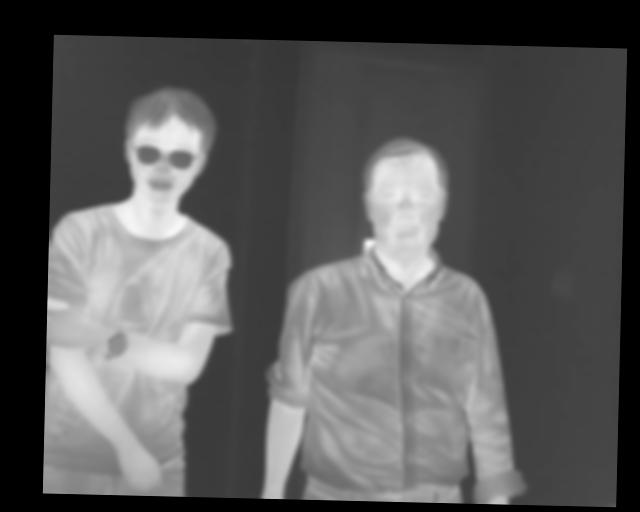face: (360, 134, 449, 266), (122, 86, 214, 208)
